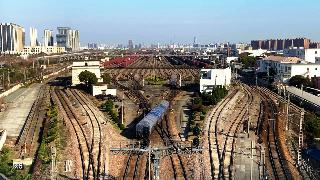train: (135, 99, 173, 139)
